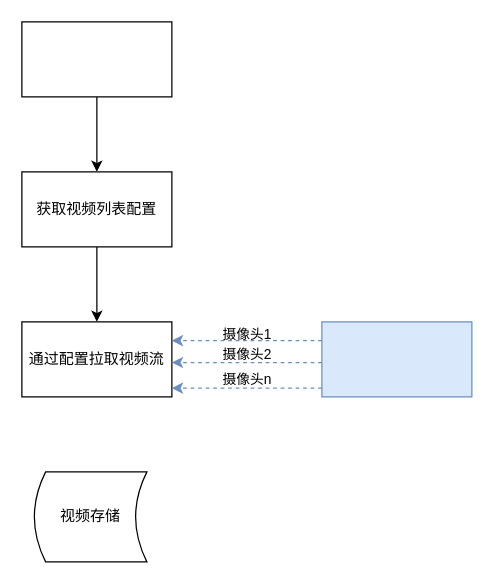
The diagram is 494 pixels wide and 584 high, and some of its shapes have lost their labels. The box of each missing label's shape, as (x1, y1, x2, y2) in pixels:
denali-dbs启动: (21, 21, 172, 97)
流媒体服务器: (321, 321, 472, 397)
